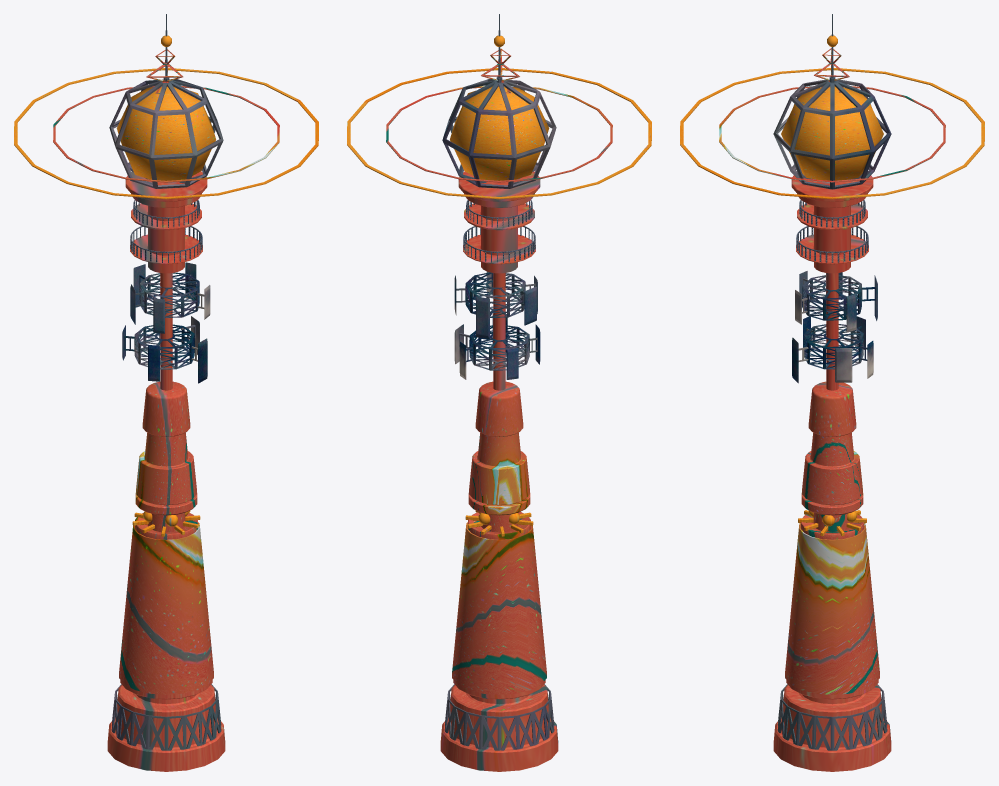
The model's file is tower_B_这不是中间那个塔 .FBX.
The picture shows the model from 3 angles, left to right: view 1: azimuth 30°, elevation 25°; view 2: azimuth 150°, elevation 25°; view 3: azimuth 270°, elevation 25°; orthographic projection.
Parts seen in each view (by area): view 1: towerbCylinder044, towerb对象007, towerbSphere008, towerbSphere009, towerb对象006, towerbTube002, towerbCylinder049, towerbCylinder048, towerbTube001, towerbCylinder046; view 2: towerbCylinder044, towerb对象007, towerbSphere008, towerbSphere009, towerb对象006, towerbTube002, towerbCylinder049, towerbCylinder048, towerbTube001, towerbCylinder046, towerbBox050; view 3: towerbCylinder044, towerb对象007, towerbSphere008, towerbSphere009, towerb对象006, towerbTube002, towerbCylinder049, towerbCylinder048, towerbTube001, towerbCylinder046, towerbBox041, towerbCylinder047.
Part boxes in pixels (x1,y1,x2,y2): towerbCylinder044: (107,171,225,771); towerb对象007: (119,522,213,694); towerbSphere008: (116,86,215,180); towerbSphere009: (109,14,223,188); towerb对象006: (111,684,221,750); towerbTube002: (14,68,318,199); towerbCylinder049: (139,272,199,317); towerbCylinder048: (134,324,194,369); towerbTube001: (53,86,279,182); towerbCylinder046: (130,226,202,262); towerbCylinder044: (440,171,558,771); towerb对象007: (452,522,546,694); towerbSphere008: (450,86,549,180); towerbSphere009: (442,14,556,188); towerb对象006: (444,684,554,750); towerbTube002: (347,68,651,199); towerbCylinder049: (465,272,525,317); towerbCylinder048: (469,325,529,370); towerbTube001: (386,86,612,182); towerbCylinder046: (463,226,535,262); towerbBox050: (476,296,489,338); towerbCylinder044: (773,175,891,771); towerb对象007: (785,523,879,694); towerbSphere008: (781,86,883,180); towerbSphere009: (773,14,891,189); towerb对象006: (777,684,887,750); towerbTube002: (680,68,984,199); towerbCylinder049: (802,275,862,320); towerbCylinder048: (803,324,863,369); towerbTube001: (719,86,945,182); towerbCylinder046: (796,226,868,262); towerbBox041: (835,348,852,382); towerbCylinder047: (799,200,865,227).
Bounding box in the file's own units: 43.2 × 113 × 42.56.
Materials: 3 (3 with a texture image).
